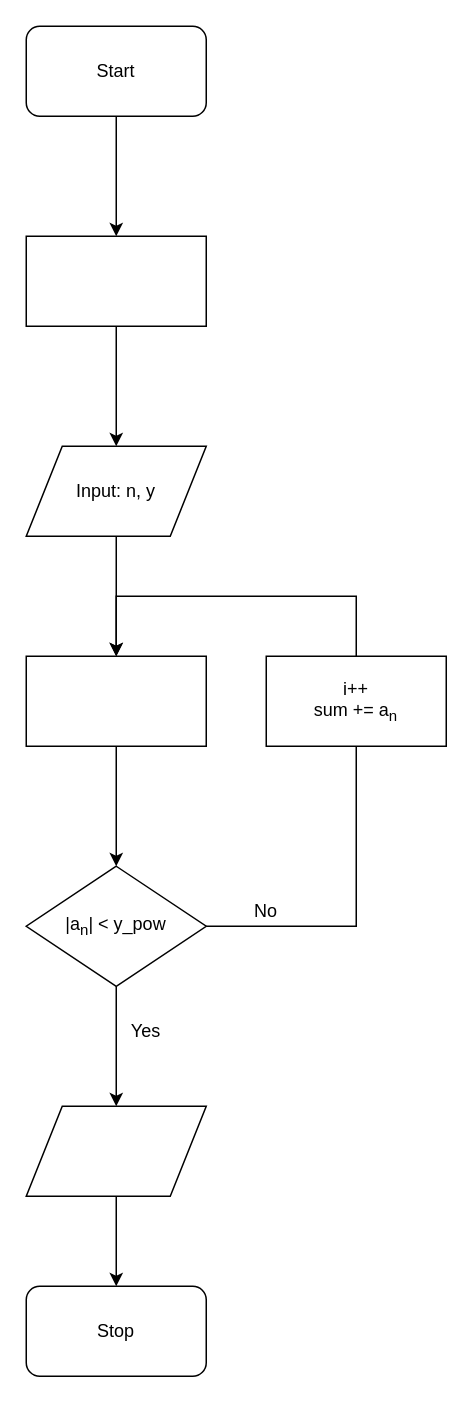
Image size: 473x1403. Some labels were removed from this diagram. The shapes that lost their labels are listed below. From the top down, each one's box as (x1, y1, x2, y2) in pixels, then its label:
(25, 235, 206, 326): n, y, a, y_pow i = 1 sum = 0
(25, 655, 206, 746): a n = n!(3n n ) y_pow = 10^y
(25, 1105, 206, 1196): Output: sum
